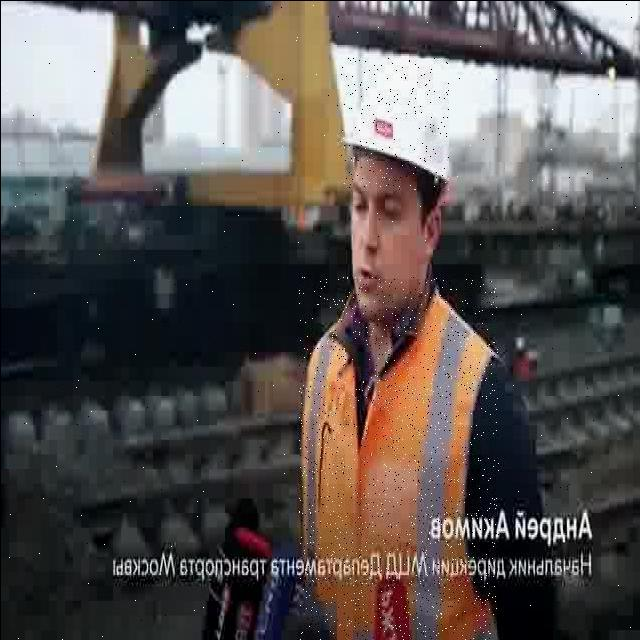Helmet: (340, 58, 448, 190)
Vest: (298, 276, 498, 640)
